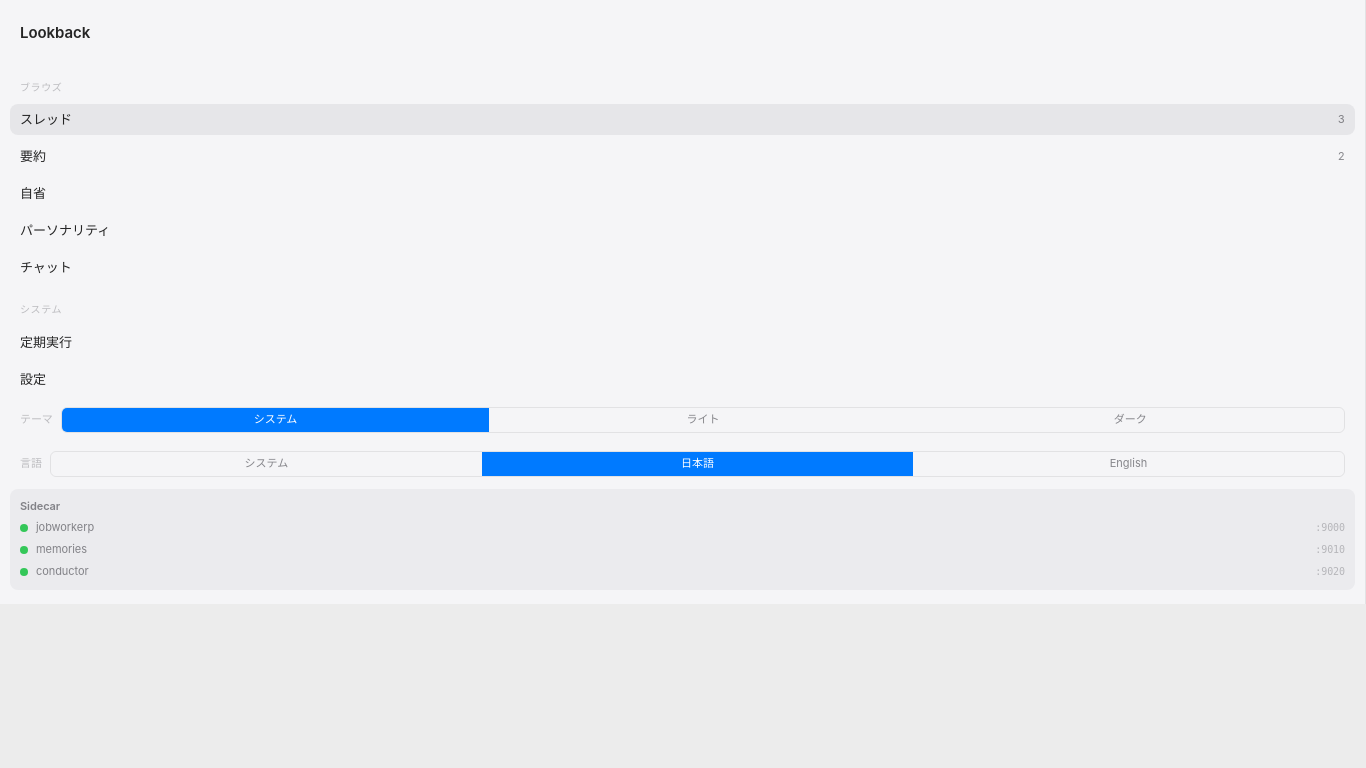
Test case: Sidebar language switch › switches UI shell strings ja → en and updates <html lang>
The width and height of the screenshot is (1366, 768).
expect the text "スレッド" is shown: met, box [20,110,72,129]
expect the text "定期実行" is shown: met, box [20,333,72,352]
Click the button "English": (1128, 464) [913,452,1344,476]
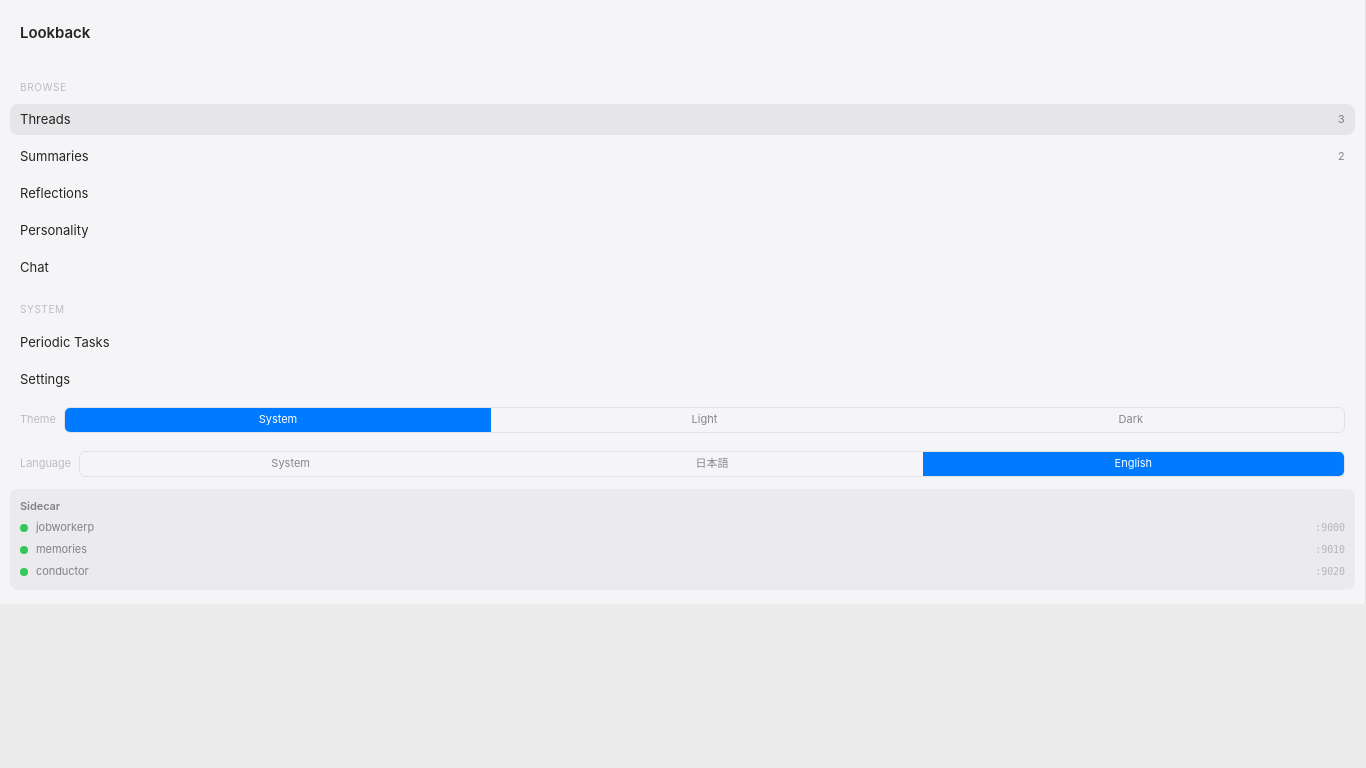
expect the text "Threads" is shown: met, box [20,110,71,129]
expect the text "Periodic Tasks" is shown: met, box [20,333,110,352]
expect the button "スレッド" is gone: met
